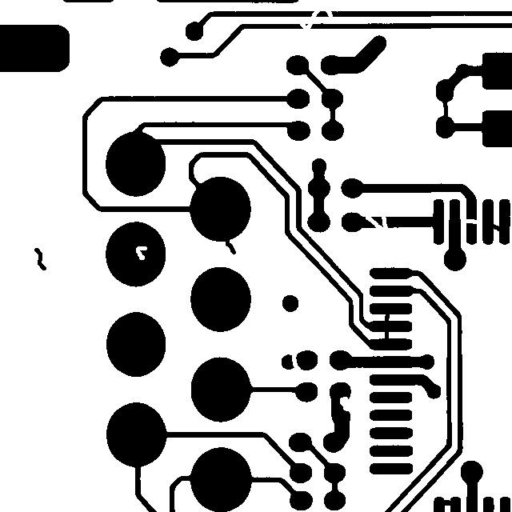copper: (26, 240, 54, 278)
mousebite: (332, 389, 358, 418)
open: (358, 206, 397, 245), (292, 7, 322, 39), (304, 0, 340, 25), (284, 346, 308, 380), (457, 211, 485, 231)
pin-hole: (128, 238, 154, 267)
short: (377, 298, 397, 350), (434, 84, 455, 130), (431, 490, 464, 511), (482, 214, 508, 238)
spur: (217, 228, 243, 262)
